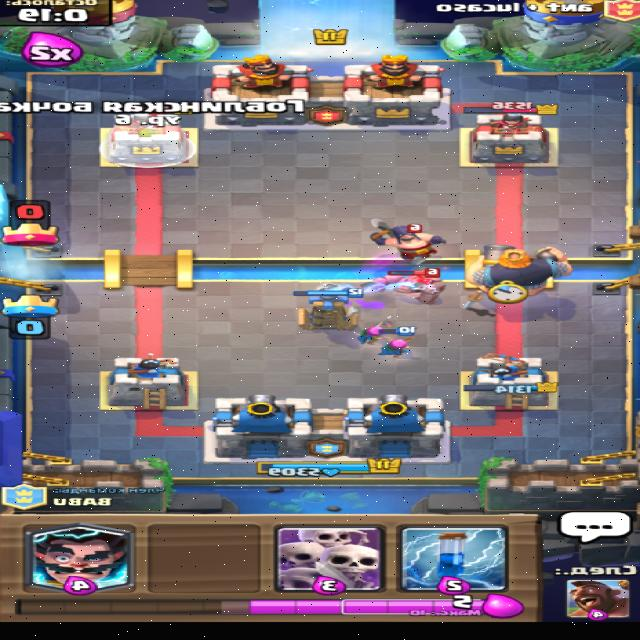Enemy-Executioner: (368, 218, 450, 260)
Enemy-Golem: (372, 267, 448, 304)
Player-Archer: (376, 325, 418, 359), (358, 314, 394, 344)
Player-RoyalGiant: (465, 242, 576, 296)
Player-Tesla: (290, 286, 367, 331)
